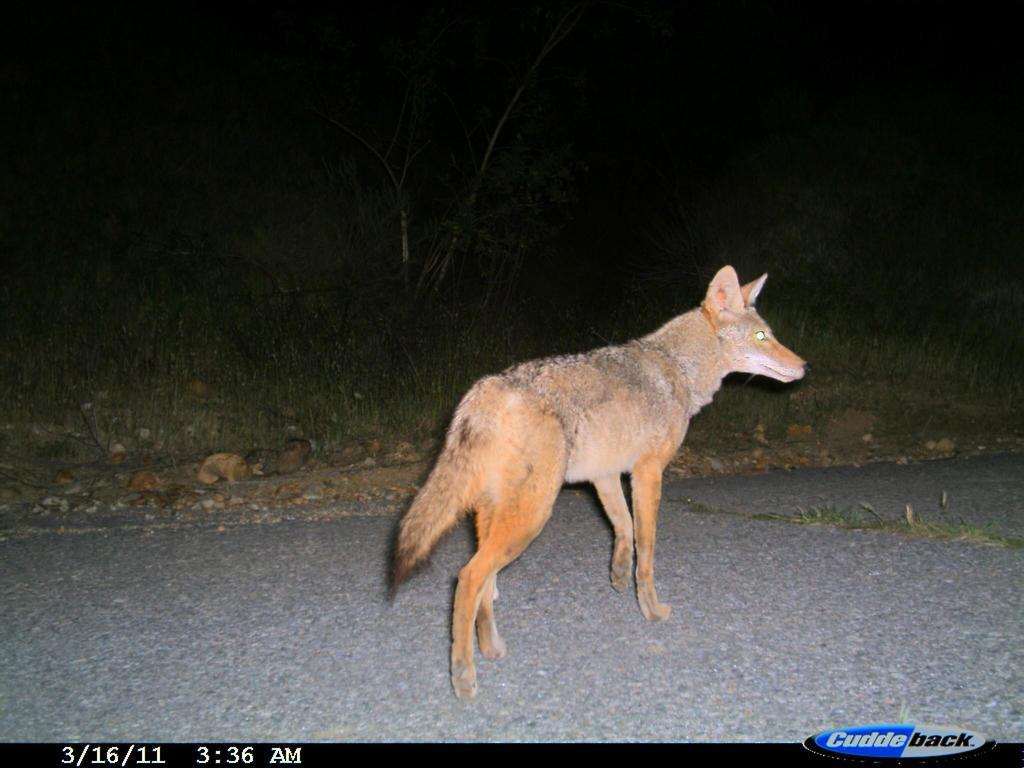coyote: (382, 259, 816, 701)
